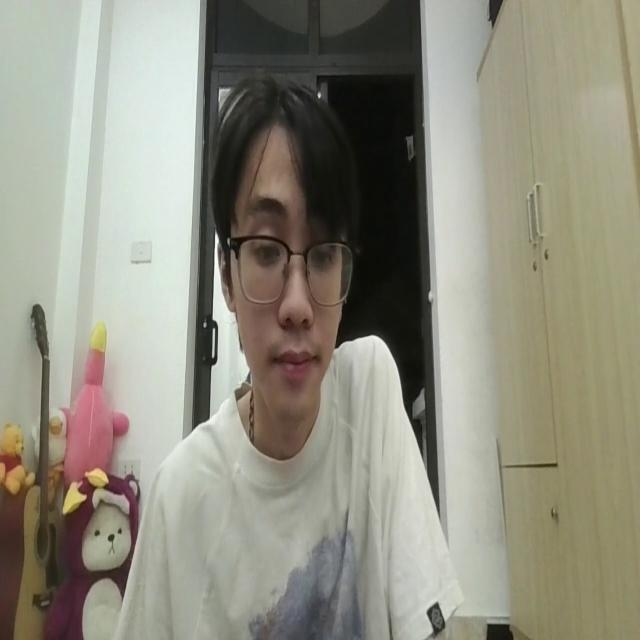student: (131, 70, 466, 640)
